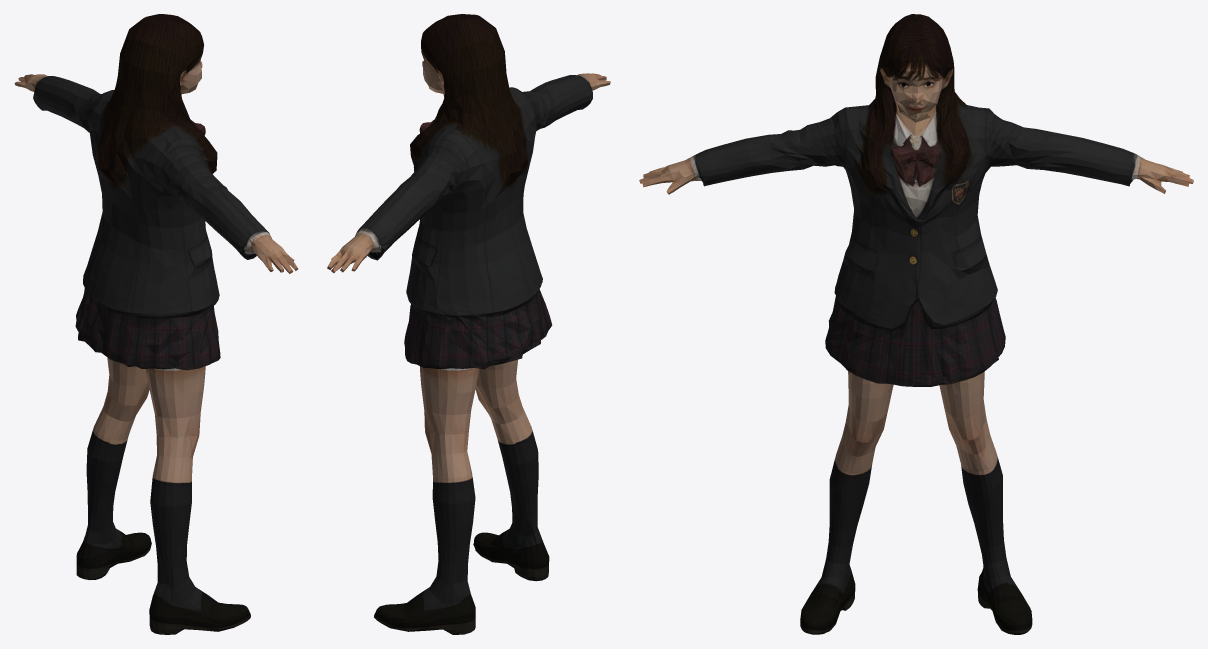
The model's file is 女高中生原始.obj.
The picture shows the model from 3 angles, left to right: view 1: azimuth 30°, elevation 25°; view 2: azimuth 150°, elevation 25°; view 3: azimuth 270°, elevation 25°; orthographic projection. The views are drawn at different scales.
Visible parts, largest first — view 1: tripo_node_829b4946-2ca1-425d-8edd-262d78553bec; view 2: tripo_node_829b4946-2ca1-425d-8edd-262d78553bec; view 3: tripo_node_829b4946-2ca1-425d-8edd-262d78553bec.
Part boxes in pixels (box(x1,y1,x2,y2)): tripo_node_829b4946-2ca1-425d-8edd-262d78553bec: box(14, 14, 298, 634); tripo_node_829b4946-2ca1-425d-8edd-262d78553bec: box(327, 14, 610, 634); tripo_node_829b4946-2ca1-425d-8edd-262d78553bec: box(639, 14, 1193, 634).
Size of the model in its own units: 0.2175 by 0.998 by 0.8354.
Materials: 1 (1 with a texture image).
